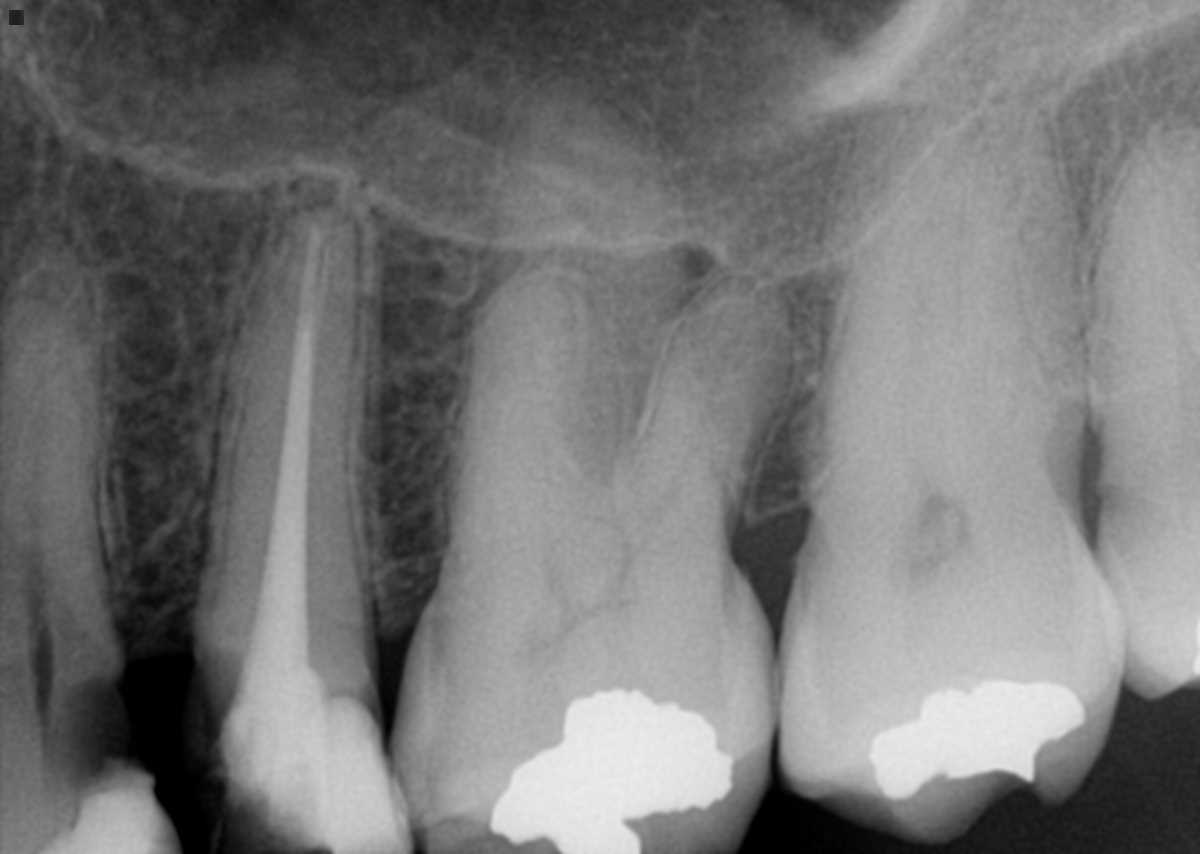Distal Root: (608, 271, 796, 602), (953, 98, 1086, 510)
Main Canal: (27, 371, 56, 692)
Main Root: (0, 236, 122, 702), (1090, 126, 1200, 410)
Mesial Root: (197, 201, 378, 679), (810, 112, 967, 498), (436, 263, 577, 591)
Palatal Root: (459, 63, 692, 602)
Root Canal Filling: (243, 215, 326, 668)
decay: (53, 664, 132, 790)
